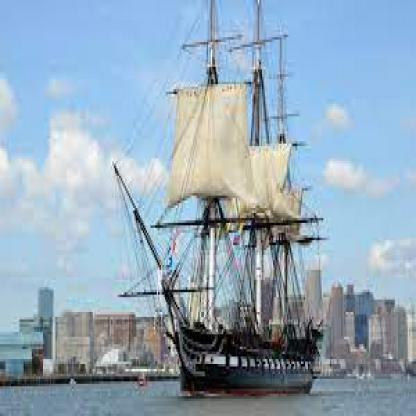Constitution: (103, 2, 344, 414)
